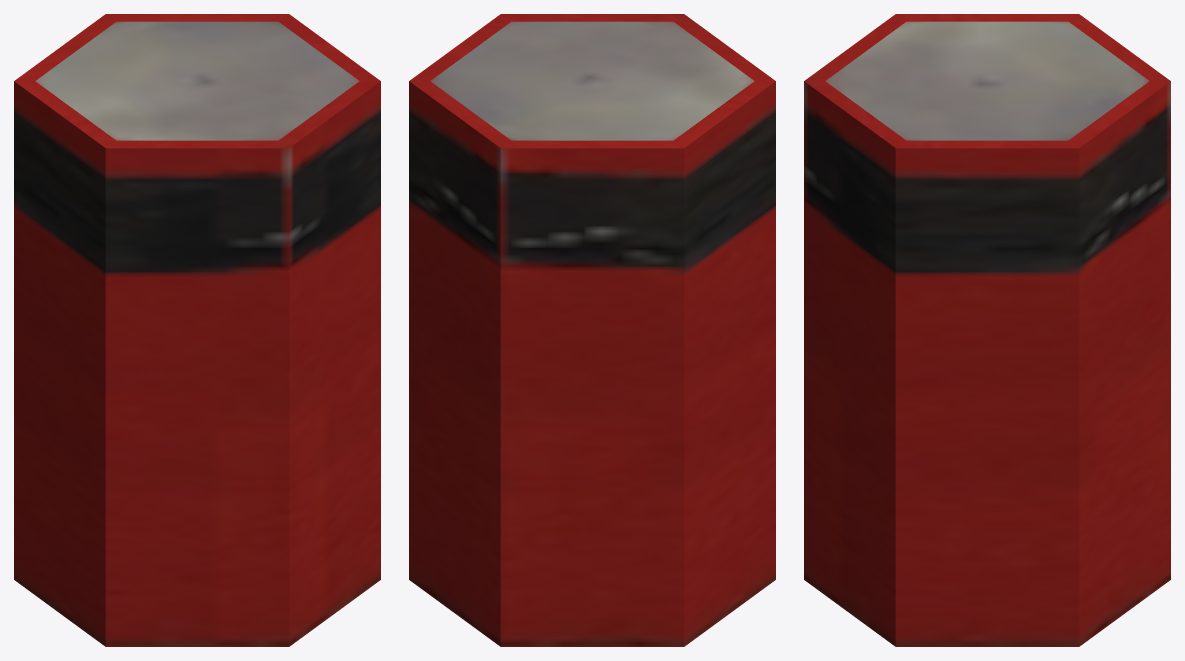
Rendered from TrashBin01.obj.
3 renders of one model, left to right at view 1: azimuth 30°, elevation 25°; view 2: azimuth 150°, elevation 25°; view 3: azimuth 270°, elevation 25°, orthographic.
Visible parts, largest first — view 1: TrashBin01, TrashBin01.Lid; view 2: TrashBin01, TrashBin01.Lid; view 3: TrashBin01, TrashBin01.Lid.
Part boxes in pixels (bbox=[...]): TrashBin01: bbox=[14, 14, 380, 646]; TrashBin01.Lid: bbox=[35, 21, 359, 140]; TrashBin01: bbox=[409, 14, 775, 646]; TrashBin01.Lid: bbox=[430, 21, 754, 140]; TrashBin01: bbox=[804, 14, 1170, 646]; TrashBin01.Lid: bbox=[825, 21, 1149, 140].
Bounding box in the file's own units: 0.6495 × 1.12 × 0.75.
